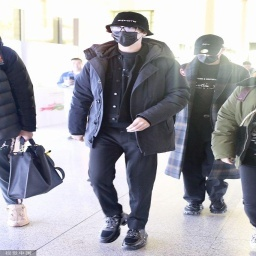correctlyWear: (110, 25, 142, 46), (195, 48, 220, 64)
